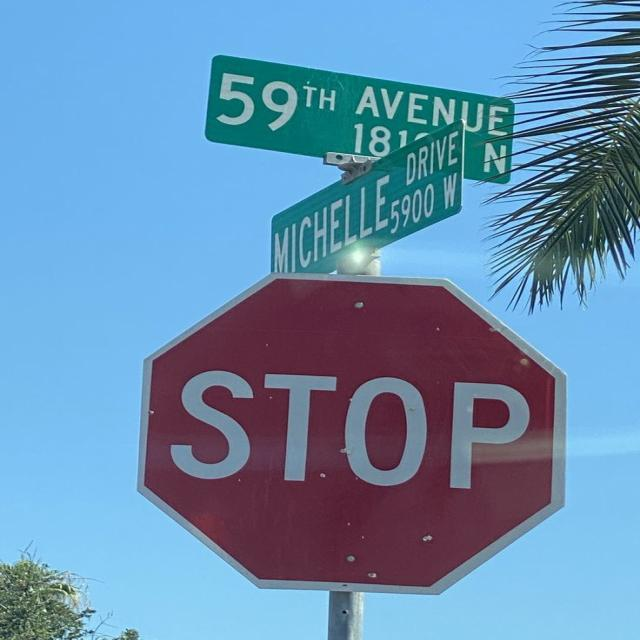stop: (135, 271, 568, 595)
